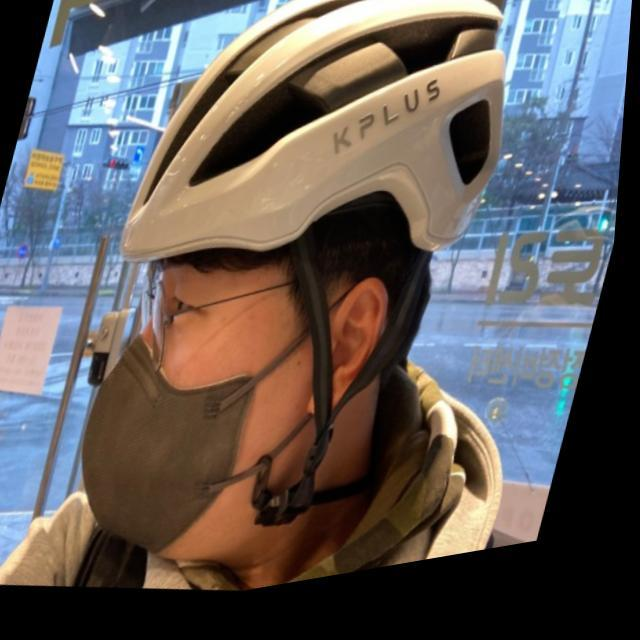Helmet: (74, 0, 512, 560)
